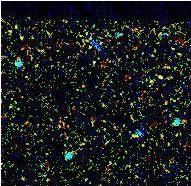star: (145, 63, 175, 93)
